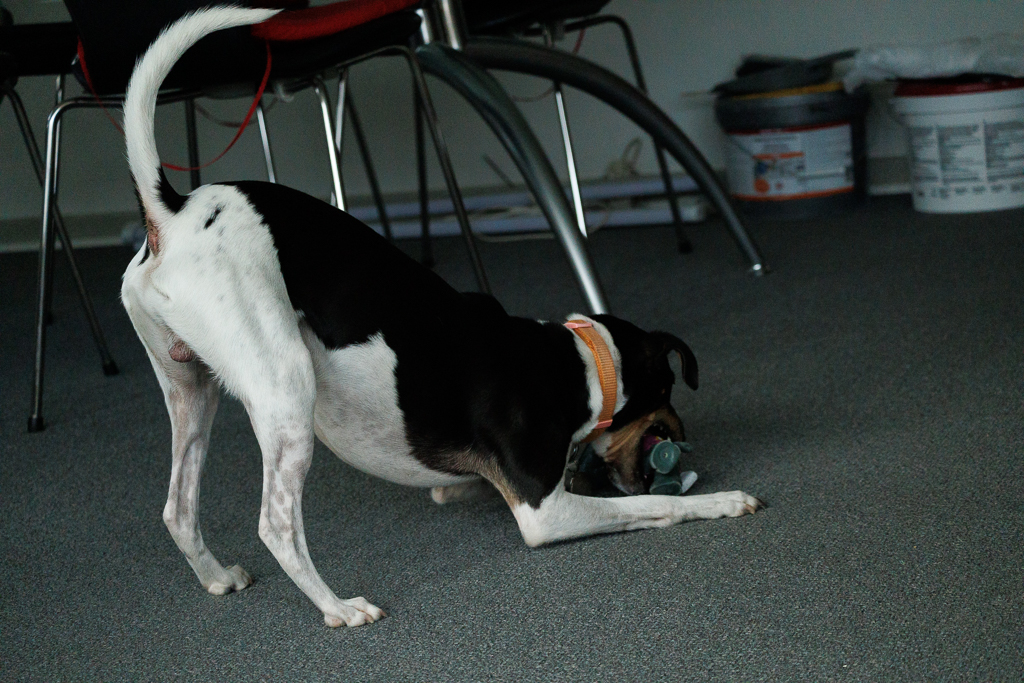Dog: (106, 2, 773, 630)
Humanoid: (627, 421, 701, 505)
